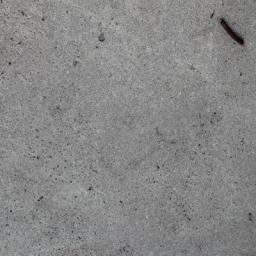FOD: (219, 16, 249, 50)
